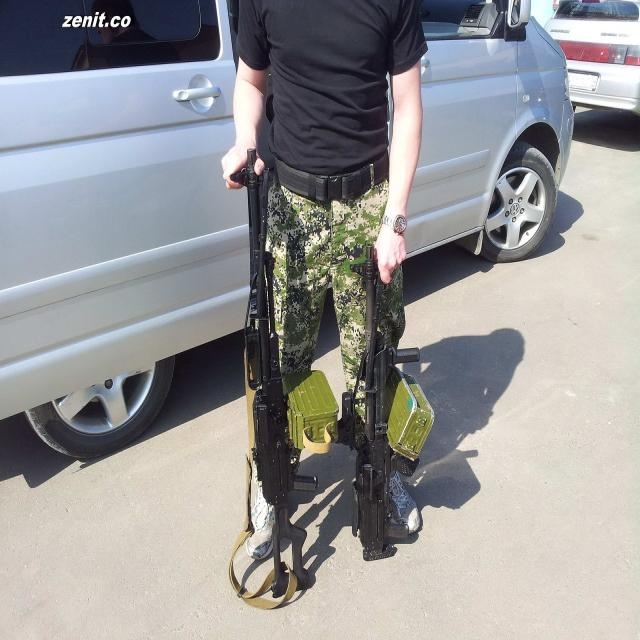firearm: (229, 147, 340, 597), (334, 242, 420, 562)
